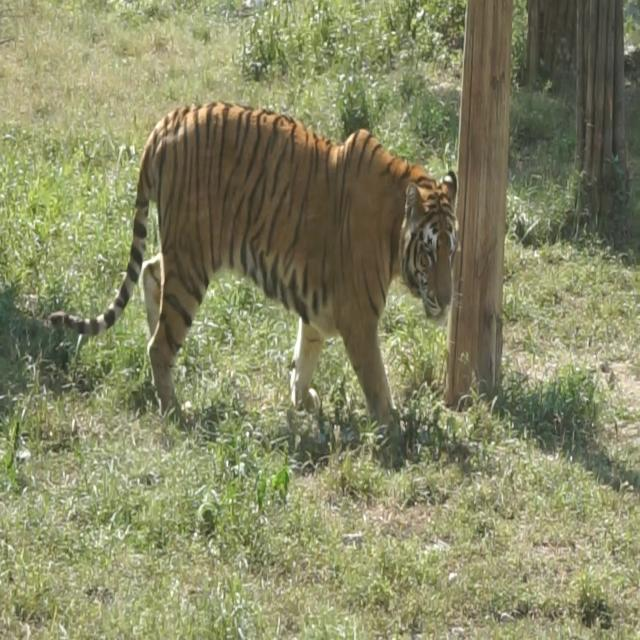Tiger: (47, 72, 460, 470)
